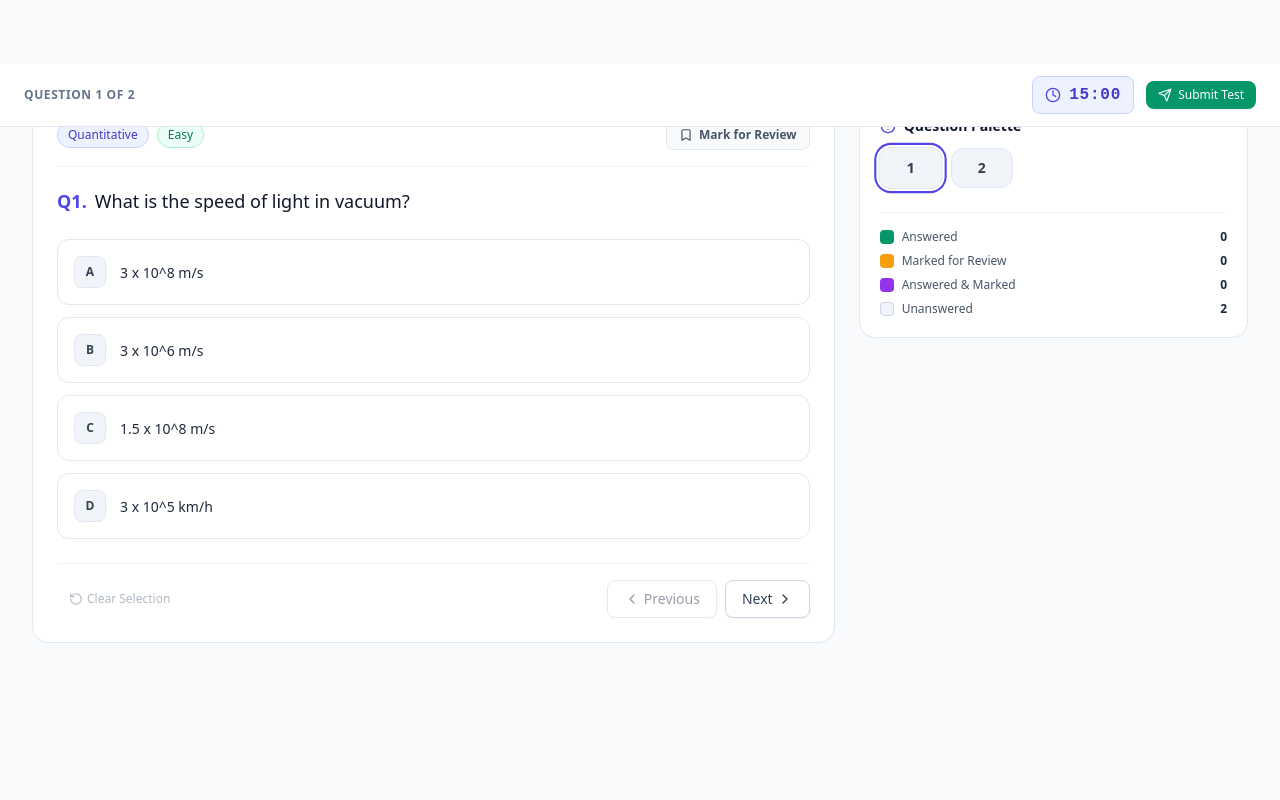
Test: Candidate Assessment UI Flow › Assessment Engine Reliability & Concurrency › stays on page and displays validation error for 400 invalid request
The image size is (1280, 800).
What coordinates should you click on to do the following:
click the button "Submit Test"
I would click on:
 (1201, 95)
Its box is [1146, 81, 1256, 109].
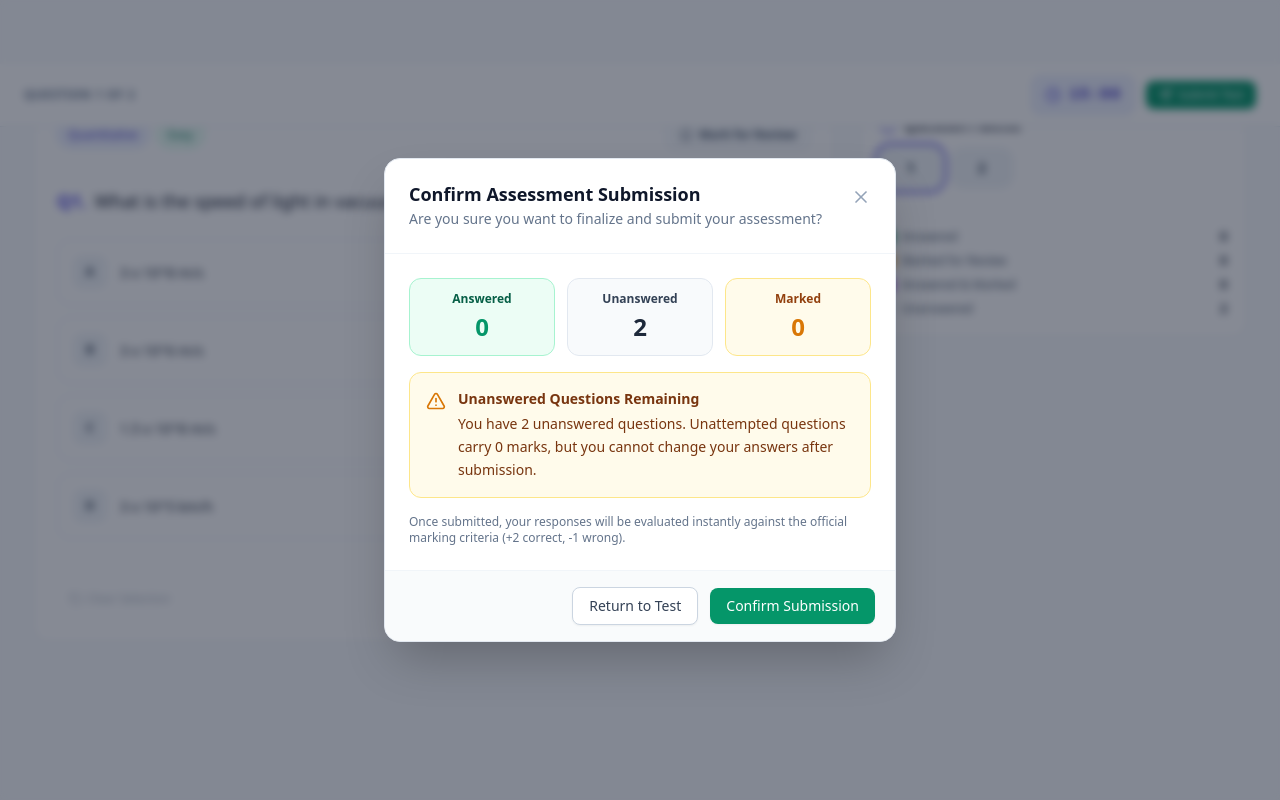
What coordinates should you click on to do the following:
click the button "Confirm Submission"
I would click on:
 (793, 606)
Its box is [710, 588, 875, 624].
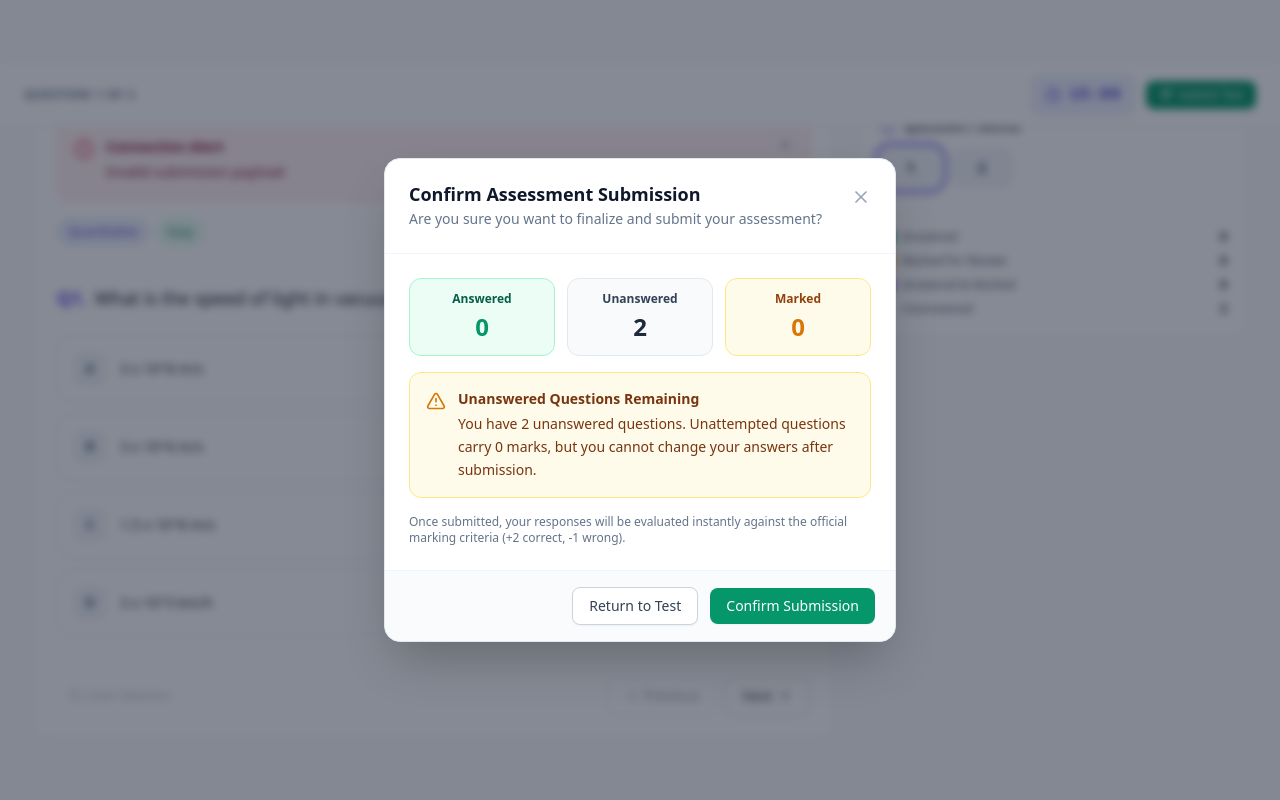
expect the text "Invalid submission payload" is shown: met, box [106, 162, 284, 181]
